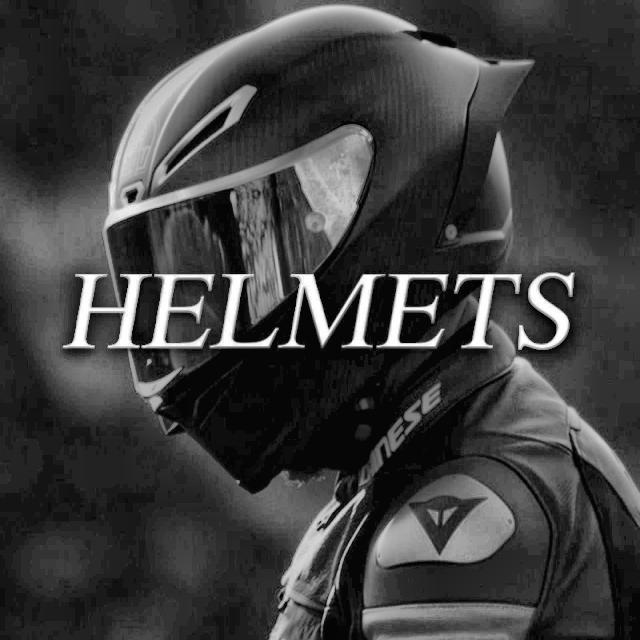Helmet: (4, 12, 586, 486)
